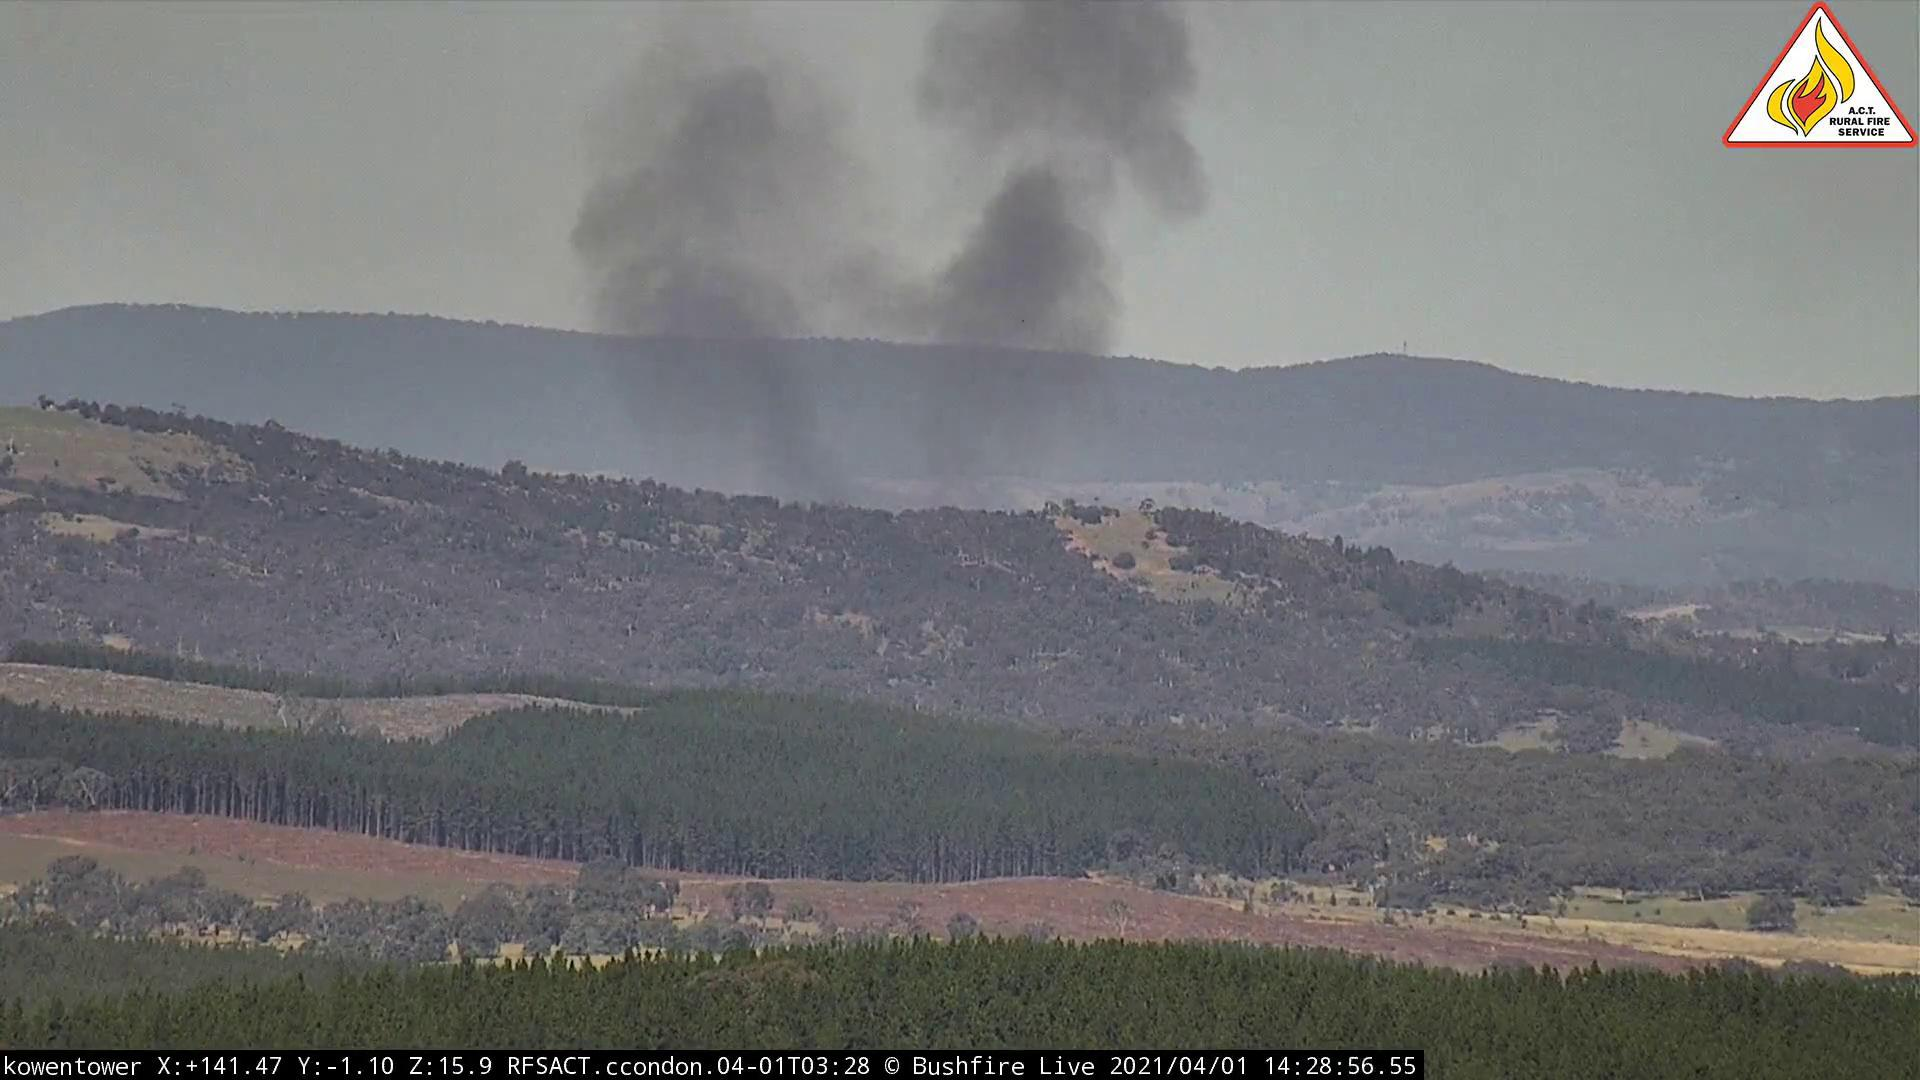Smoke: (537, 3, 1237, 512)
